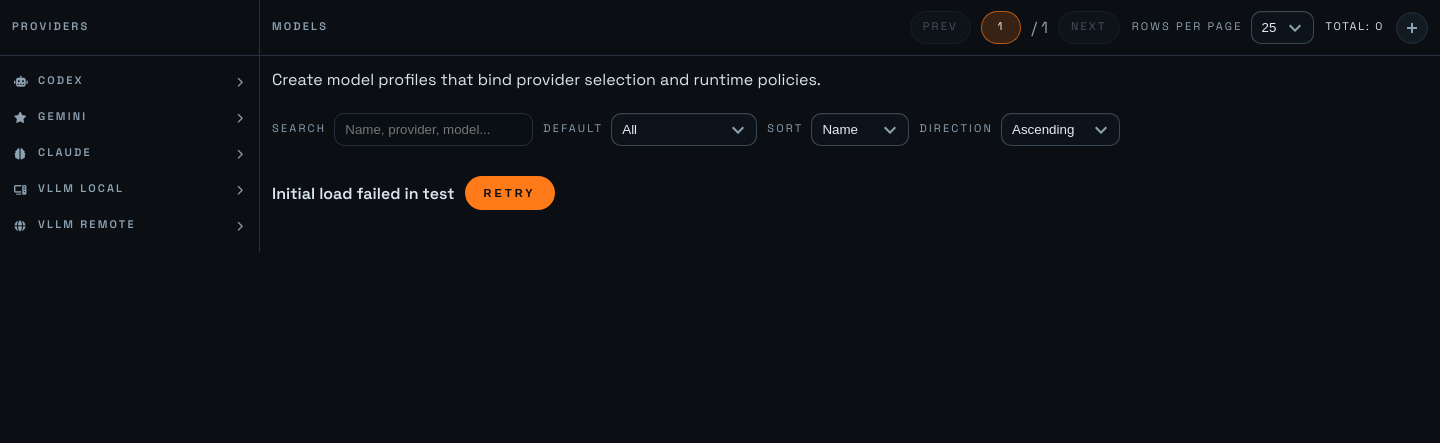
Test: ModelsPage › renders inline initial-load error state with retry action
Expected: the text "Initial load failed in test" is shown, [272,182,454,205]
Click the button "Retry".
click(510, 193)  # box [464,176,555,210]
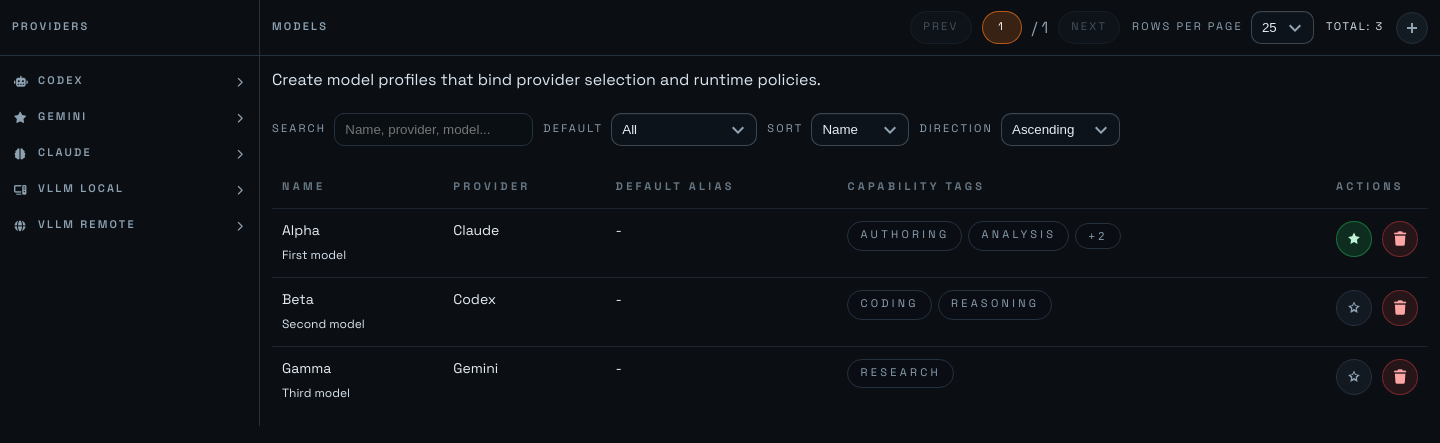
Expected: the link "Alpha" is shown, [282,222,320,240]
